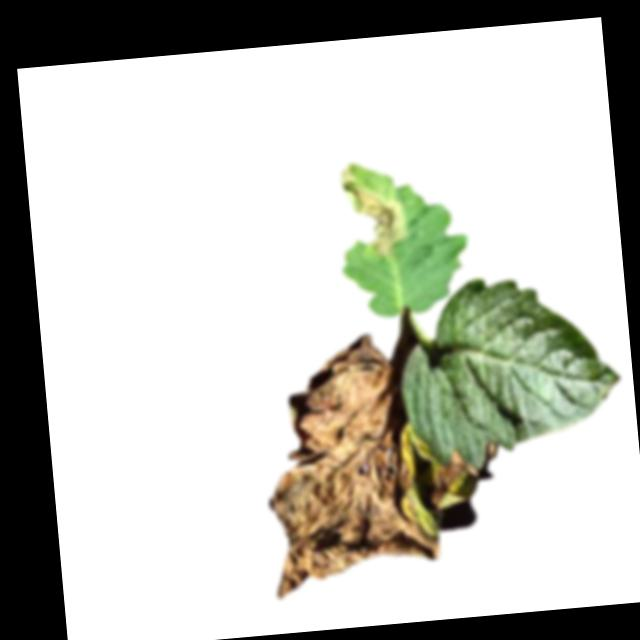Late_blight: (253, 330, 443, 602), (338, 156, 412, 264), (432, 447, 483, 508)
